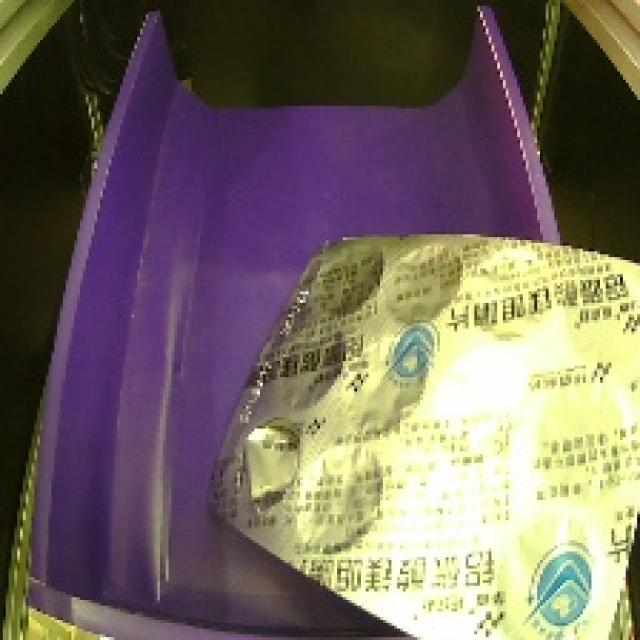med_plate: (194, 205, 639, 640)
